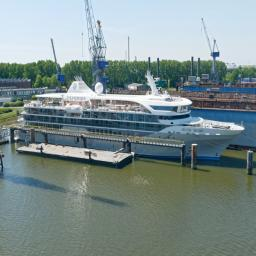cruises: (16, 70, 247, 165)
